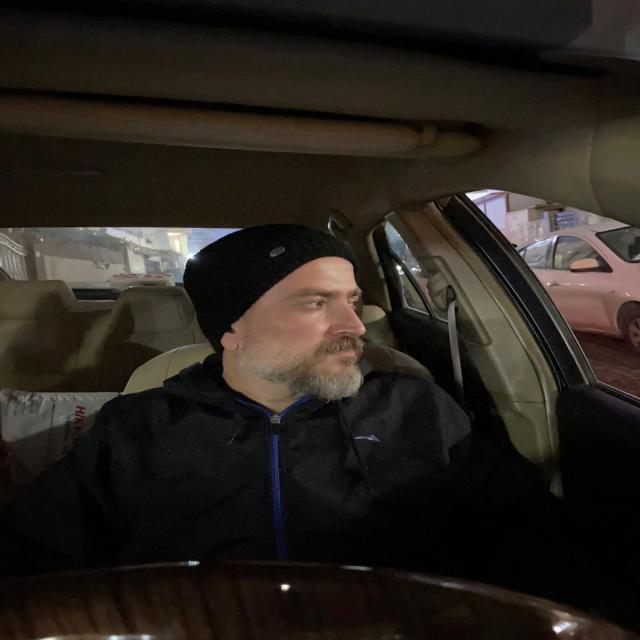LeftRight: (185, 215, 381, 409)
